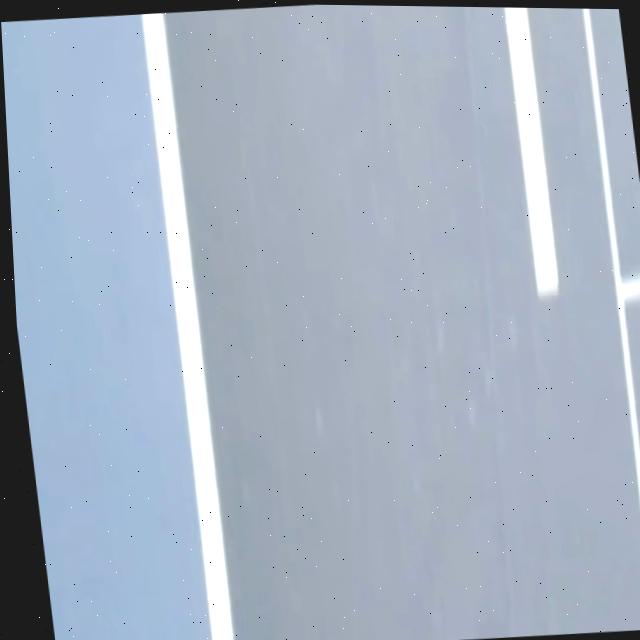center: (503, 7, 557, 296)
left: (141, 13, 233, 640)
